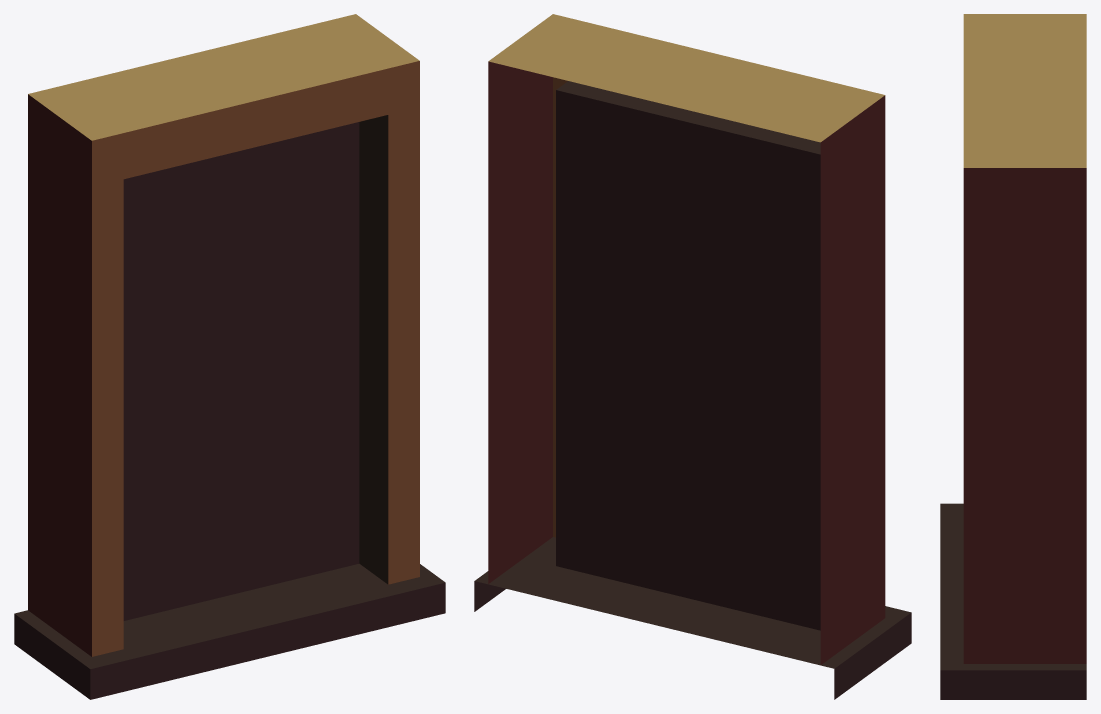
Rendered from TB_CITY_BD_Door_D.FBX.
3 renders of one model, left to right at view 1: azimuth 30°, elevation 25°; view 2: azimuth 150°, elevation 25°; view 3: azimuth 270°, elevation 25°, orthographic. The views are drawn at different scales.
Parts seen in each view (by area): view 1: TB_CITY_BD_Door_D; view 2: TB_CITY_BD_Door_D; view 3: TB_CITY_BD_Door_D.
Boxes of the visible parts, bbox=[...] form: TB_CITY_BD_Door_D: bbox=[14, 14, 445, 699]; TB_CITY_BD_Door_D: bbox=[474, 14, 911, 699]; TB_CITY_BD_Door_D: bbox=[940, 14, 1086, 699].
Size of the model in its own units: 3.33 by 4.9 by 1.24.
